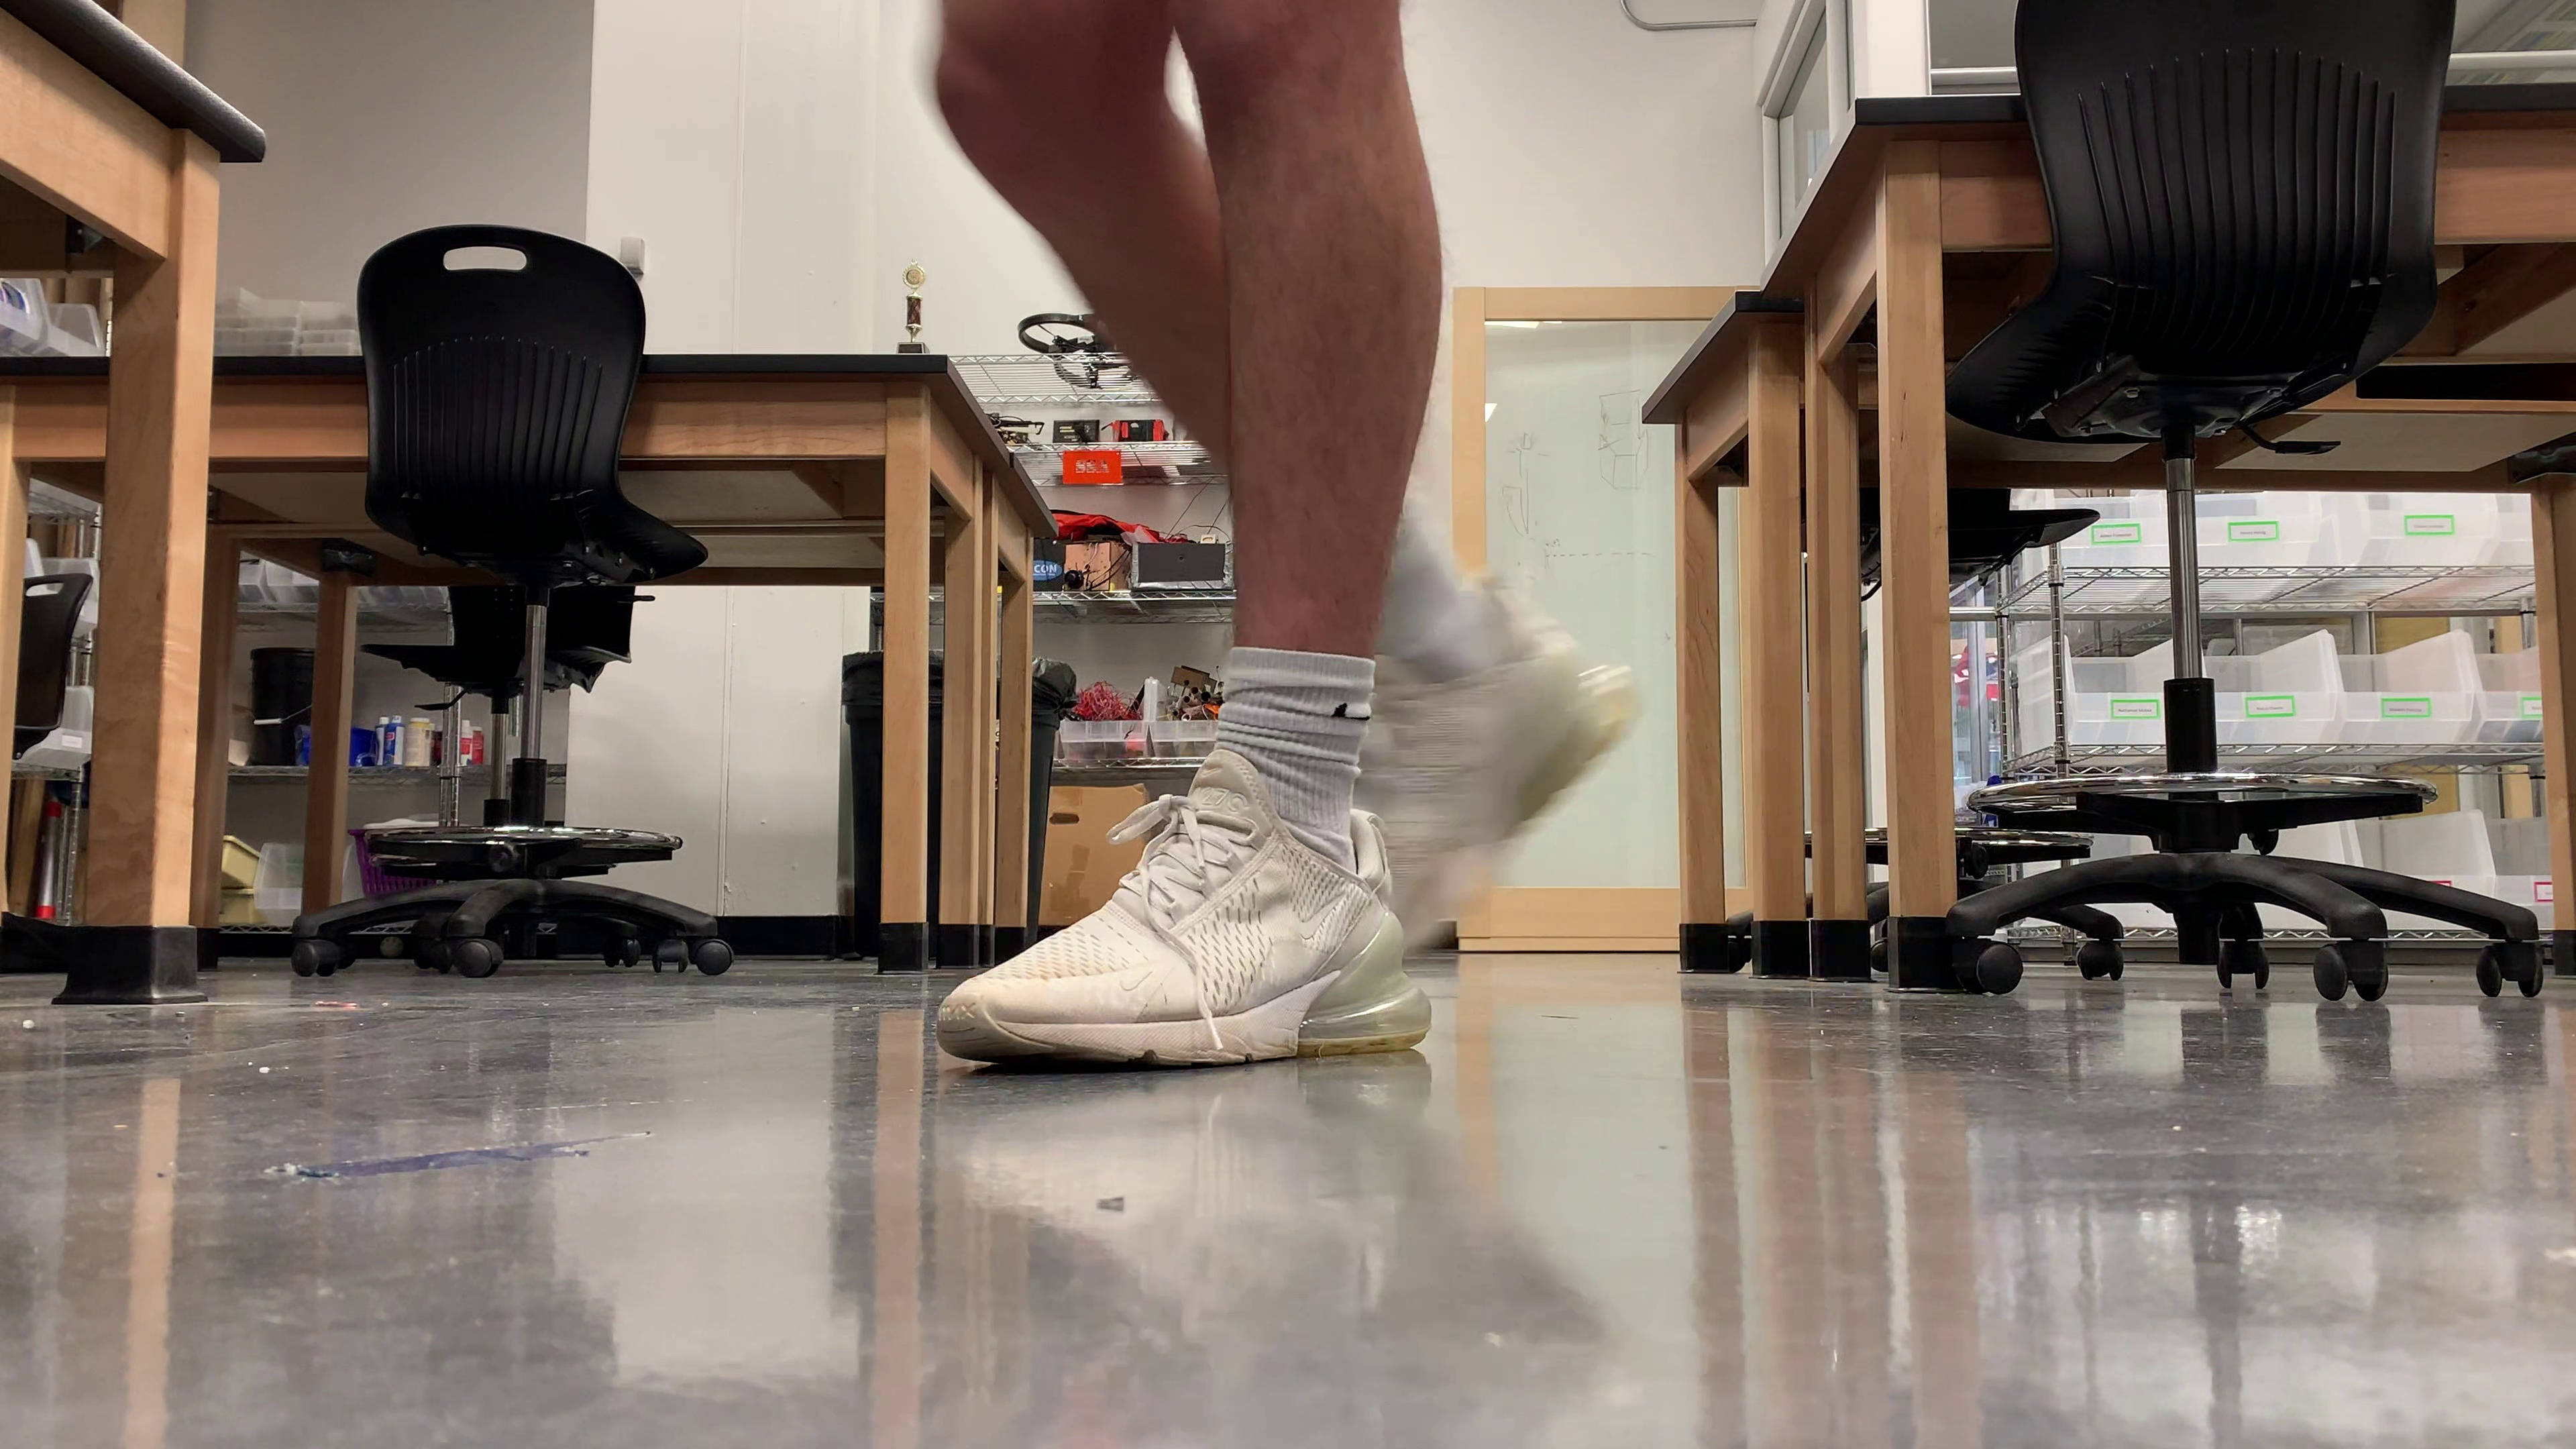shoe: (932, 747, 1430, 1065)
